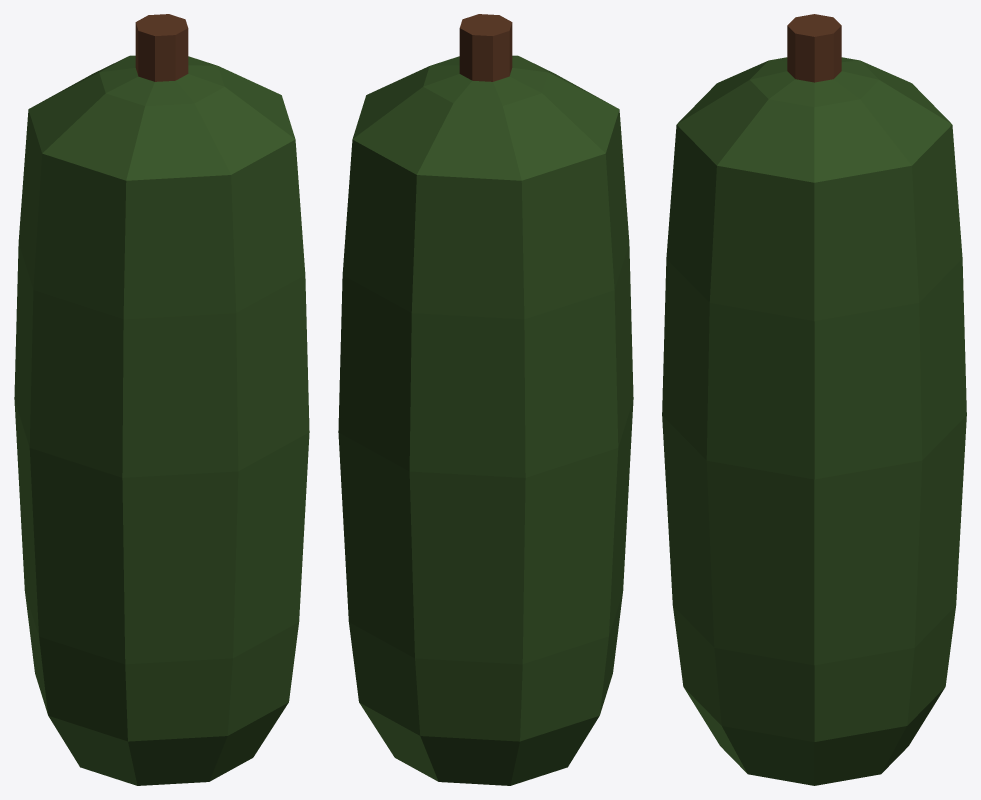
File: Cucember_1.fbx
The picture shows the model from 3 angles, left to right: view 1: azimuth 30°, elevation 25°; view 2: azimuth 150°, elevation 25°; view 3: azimuth 270°, elevation 25°; orthographic projection.
Visible parts, largest first — view 1: Cucember_1; view 2: Cucember_1; view 3: Cucember_1.
Boxes of the visible parts, x1,y1,x2,y2 form: Cucember_1: (14,14,309,785); Cucember_1: (338,14,633,785); Cucember_1: (662,14,966,785).
Size of the model in its own units: 13.47 by 35.88 by 13.47.
